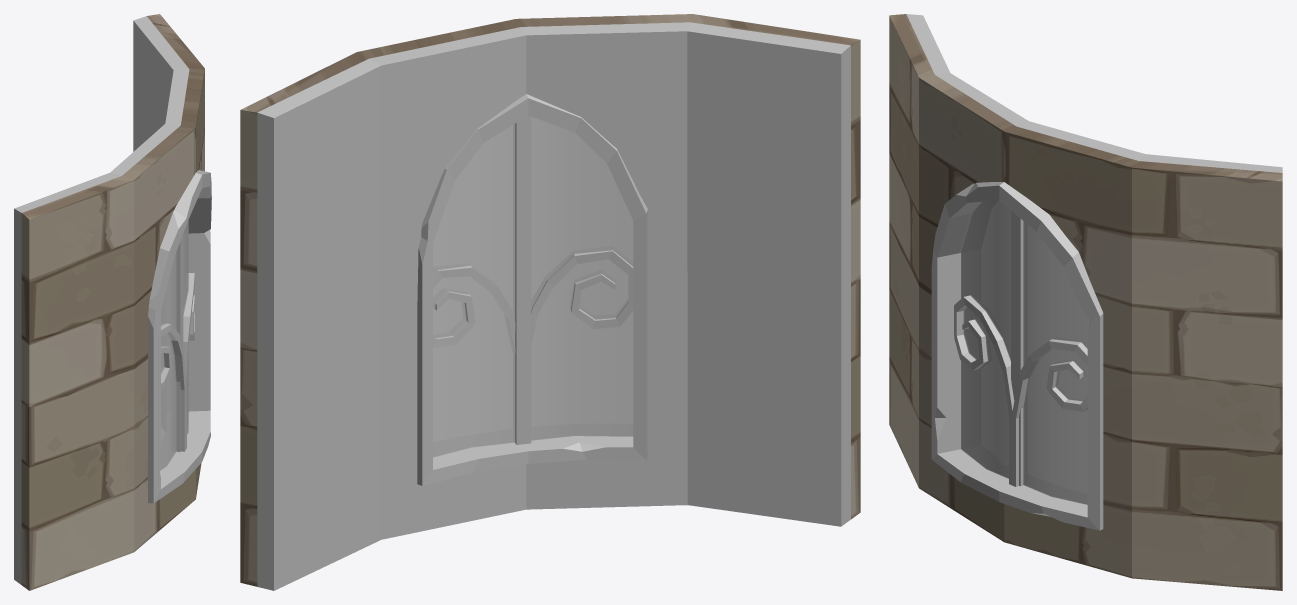
Rendered from SM_Bld_Wall_Curved_Window_01.fbx.
3 renders of one model, left to right at view 1: azimuth 30°, elevation 25°; view 2: azimuth 150°, elevation 25°; view 3: azimuth 270°, elevation 25°, orthographic. The views are drawn at different scales.
Parts seen in each view (by area): view 1: SM_Bld_Wall_Curved_Window_01, SM_Bld_Wall_Curved_Window_01_Glass; view 2: SM_Bld_Wall_Curved_Window_01, SM_Bld_Wall_Curved_Window_01_Glass; view 3: SM_Bld_Wall_Curved_Window_01, SM_Bld_Wall_Curved_Window_01_Glass.
Boxes of the visible parts, bbox=[...] form: SM_Bld_Wall_Curved_Window_01: bbox=[14, 14, 211, 590]; SM_Bld_Wall_Curved_Window_01_Glass: bbox=[157, 220, 188, 470]; SM_Bld_Wall_Curved_Window_01: bbox=[240, 14, 860, 590]; SM_Bld_Wall_Curved_Window_01_Glass: bbox=[433, 116, 633, 457]; SM_Bld_Wall_Curved_Window_01: bbox=[889, 14, 1282, 590]; SM_Bld_Wall_Curved_Window_01_Glass: bbox=[961, 200, 1090, 504].
Size of the model in its own units: 261 by 301 by 261.
